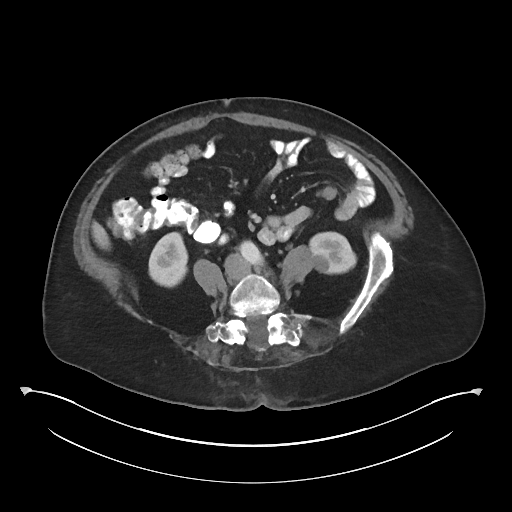Lesion: (310, 249, 334, 273)
